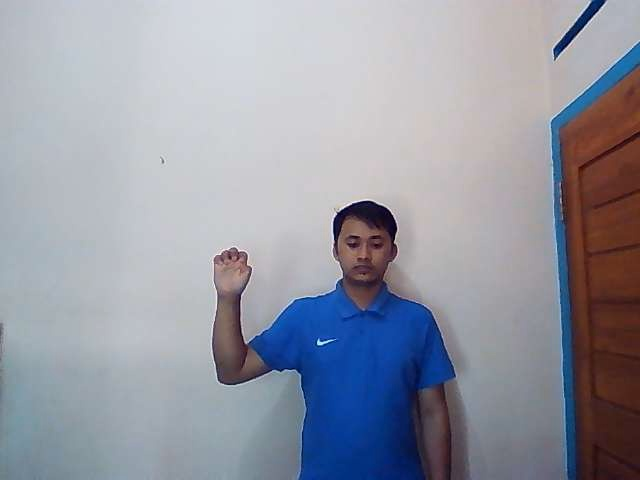E: (210, 246, 253, 296)
